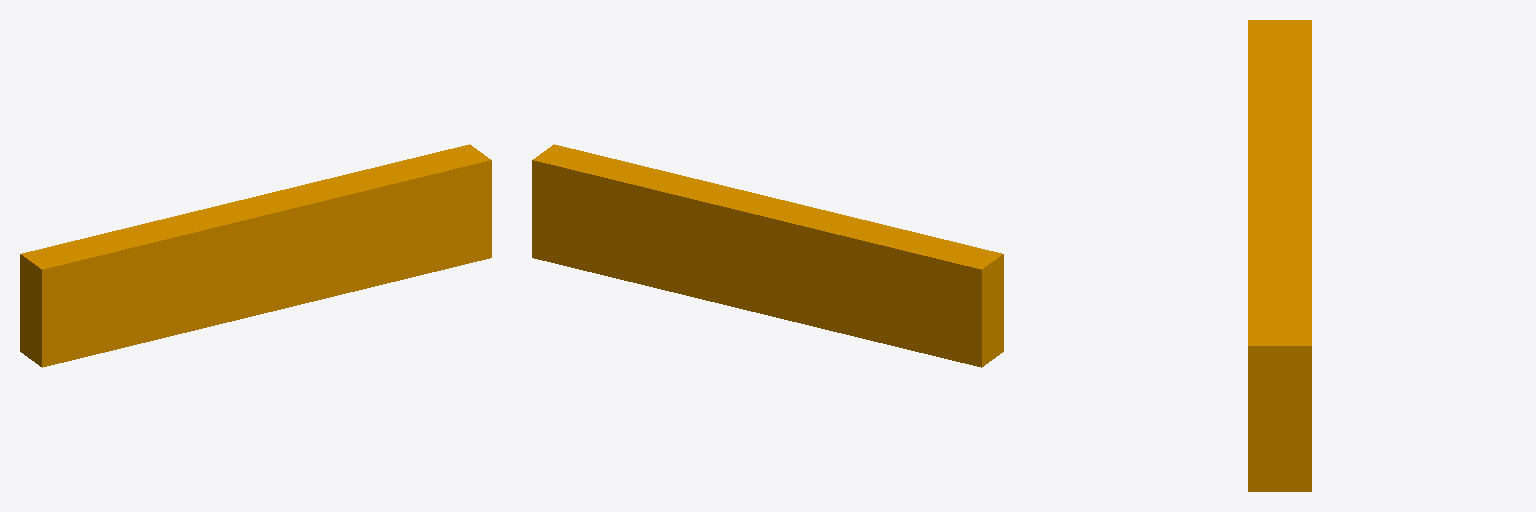
URDF robot description (simple_box):
 <robot name="simple_box">
  <link name="my_box">
    <inertial>
      <origin xyz="0 0 0" />
      <mass value="1.0" />
      <inertia  ixx="1.0" ixy="0.0"  ixz="0.0"  iyy="100.0"  iyz="0.0"  izz="1.0" />
    </inertial>
    <visual>
      <origin xyz="0 0 0"/>
      <geometry>
        <box size="1.2 0.1 0.25" />
      </geometry>
    </visual>
    <collision>
      <origin xyz="0 0 0"/>
      <geometry>
        <box size="1.2 0.1 0.25" />
      </geometry>
    </collision>
  </link>
  <gazebo reference="my_box">
    <material>Gazebo/Orange</material>
  </gazebo>
  <gazebo>
    <static>true</static>
  </gazebo>
</robot>

--- Render facts (derived) ---
Views: 3 orthographic renders of the robot side by side, from view 1: azimuth 30°, elevation 25°; view 2: azimuth 150°, elevation 25°; view 3: azimuth 270°, elevation 25°.
Robot: simple_box — 1 links, 0 joints (none); root link my_box; default pose: all joints at 0.
Visible links, largest first — view 1: my_box; view 2: my_box; view 3: my_box.
Link boxes in pixels (x1,y1,x2,y2): my_box: (20,144,491,367); my_box: (532,144,1003,367); my_box: (1248,20,1311,491).
Size in the robot's own frame: 1.2 by 0.1 by 0.25 metres.
Geometry: primitives only (box / cylinder / sphere), no mesh files.
